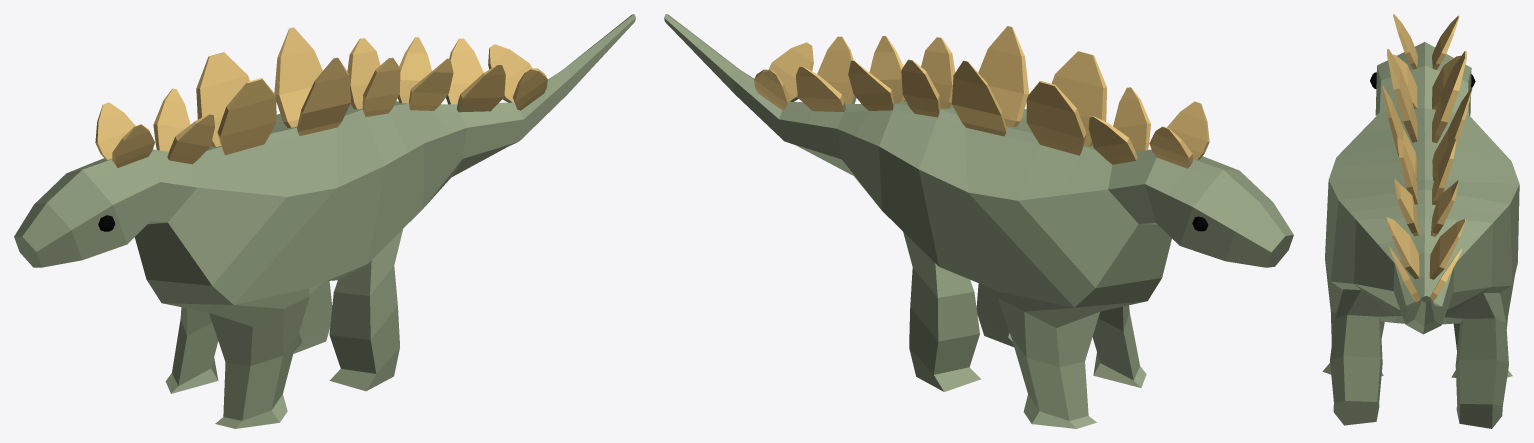
File: Stegosaurus.fbx
3 renders of one model, left to right at view 1: azimuth 30°, elevation 25°; view 2: azimuth 150°, elevation 25°; view 3: azimuth 270°, elevation 25°, orthographic.
Parts seen in each view (by area): view 1: Sphere.010; view 2: Sphere.010; view 3: Sphere.010.
Part boxes in pixels (<box>): Sphere.010: <box>14,14,635,428</box>; Sphere.010: <box>664,14,1293,428</box>; Sphere.010: <box>1322,14,1519,428</box>.
Bounding box in the file's own units: 388 × 202 × 106.
